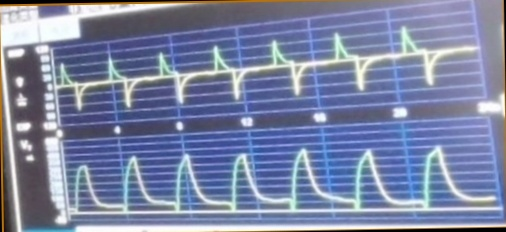Flow: (57, 25, 462, 111)
Leakage Volume: (70, 142, 497, 223)
